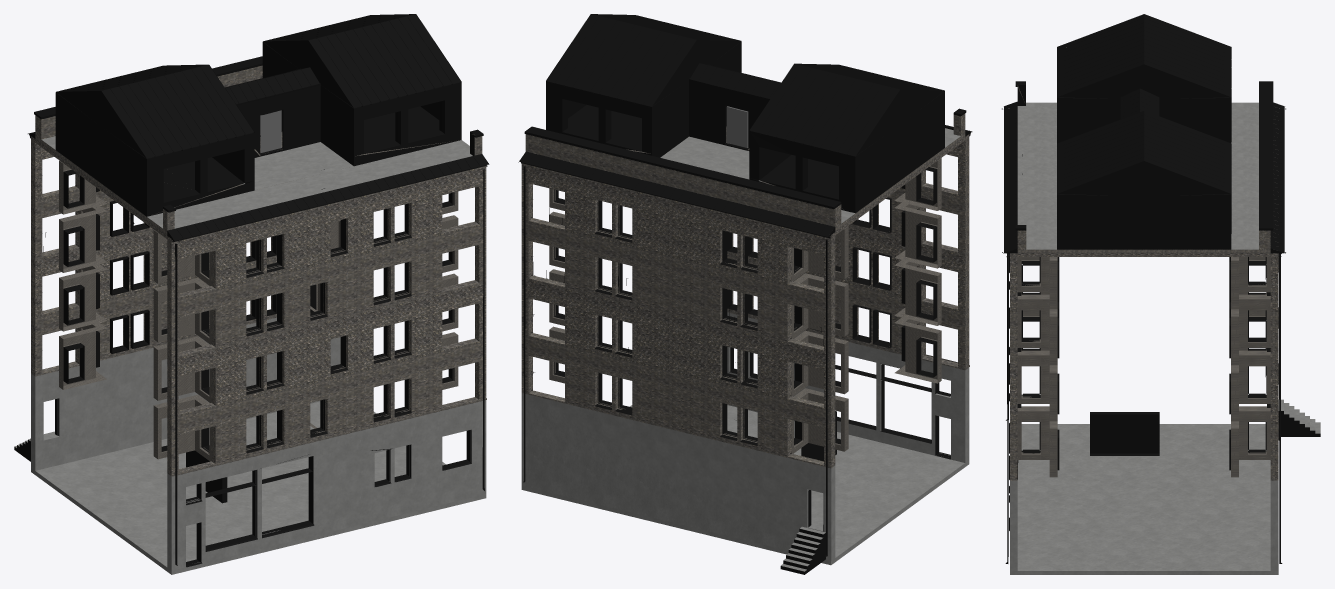
Rendered from euro_stone_apartment.gltf.
3 views of the same model, side by side, from view 1: azimuth 30°, elevation 25°; view 2: azimuth 150°, elevation 25°; view 3: azimuth 270°, elevation 25° (orthographic). The views are drawn at different scales.
Parts seen in each view (by area): view 1: ground floor_Concrete_Agnes_0; view 2: ground floor_Concrete_Agnes_0; view 3: ground floor_Concrete_Agnes_0.
Part boxes in pixels (box(x1,y1,x2,y2)): ground floor_Concrete_Agnes_0: box(14, 14, 489, 574); ground floor_Concrete_Agnes_0: box(518, 14, 972, 574); ground floor_Concrete_Agnes_0: box(1002, 14, 1320, 574).
Size of the model in its own units: 17.5 by 22.97 by 16.06.
Materials: 5 (3 with a texture image).
